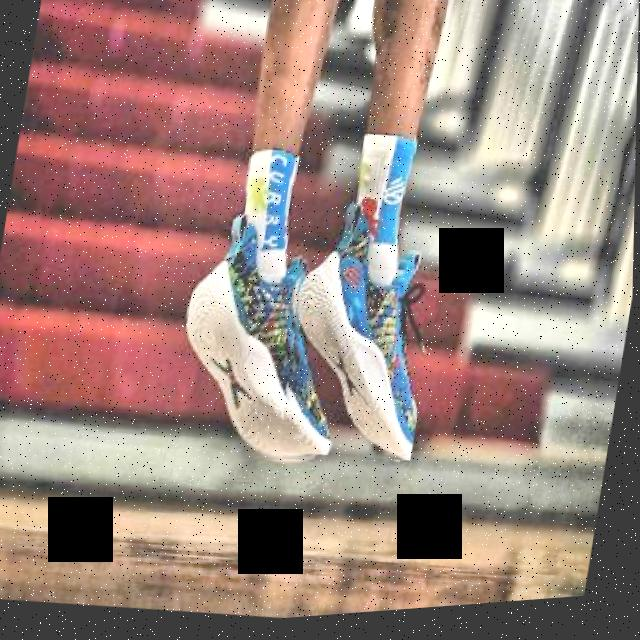shoe: (167, 207, 358, 481), (270, 195, 453, 476)
